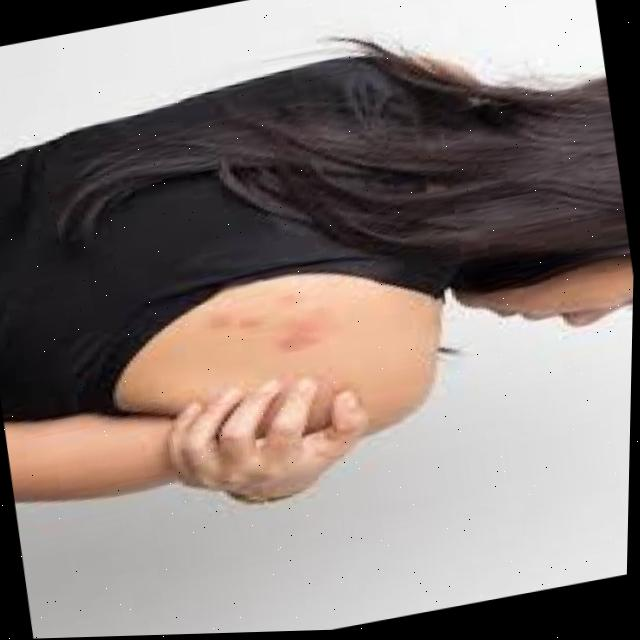Eczema: (233, 289, 356, 366)
